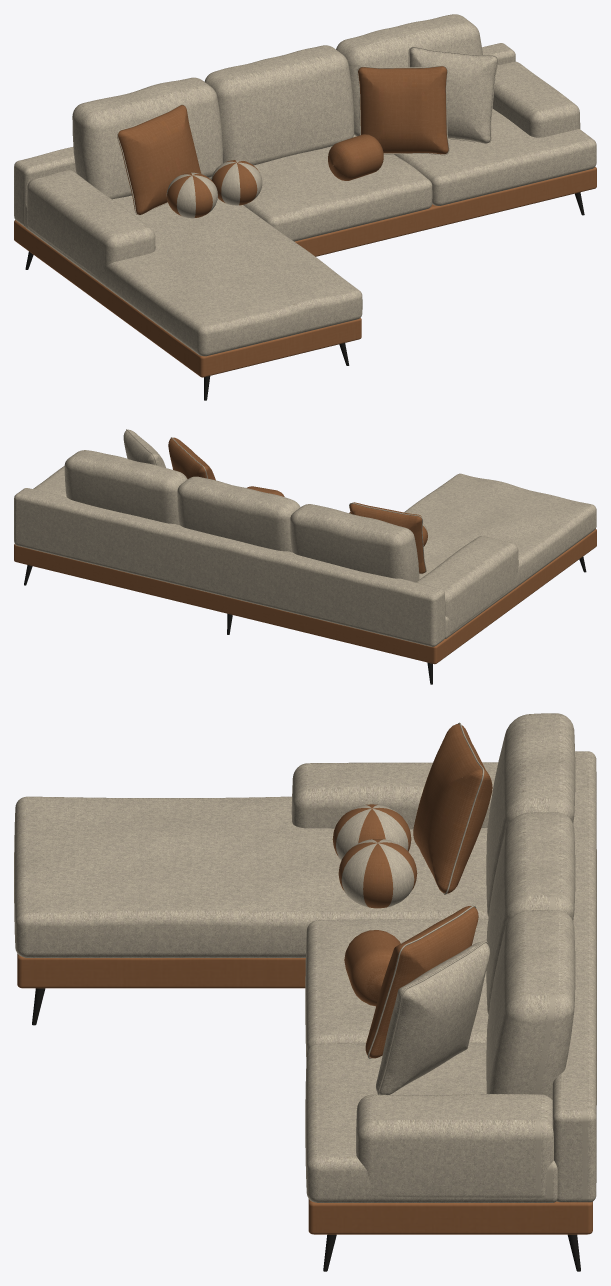
File: chaise.glb
The picture shows the model from 3 angles, top to bottom: view 1: azimuth 30°, elevation 25°; view 2: azimuth 150°, elevation 25°; view 3: azimuth 270°, elevation 25°; orthographic projection. The views are drawn at different scales.
Visible parts, largest first — view 1: fabric, accent, trim, pillows (×2); view 2: fabric, trim, accent, pillows (×2), legs; view 3: fabric, accent, trim, pillows (×2), legs.
Boxes of the visible parts, <box> form: fabric: <box>14,14,596,356</box>; accent: <box>118,66,448,217</box>; trim: <box>14,167,596,377</box>; pillows (×2): <box>117,46,498,218</box>; fabric: <box>14,450,596,646</box>; trim: <box>14,529,596,664</box>; accent: <box>168,437,427,573</box>; pillows (×2): <box>123,429,427,572</box>; legs: <box>24,557,586,684</box>; fabric: <box>14,713,596,1202</box>; accent: <box>332,724,492,1058</box>; trim: <box>17,953,592,1234</box>; pillows (×2): <box>336,722,489,1094</box>; legs: <box>32,988,580,1271</box>.
Size of the model in its own units: 3 by 0.9214 by 2.
5 materials, 5 textured.
